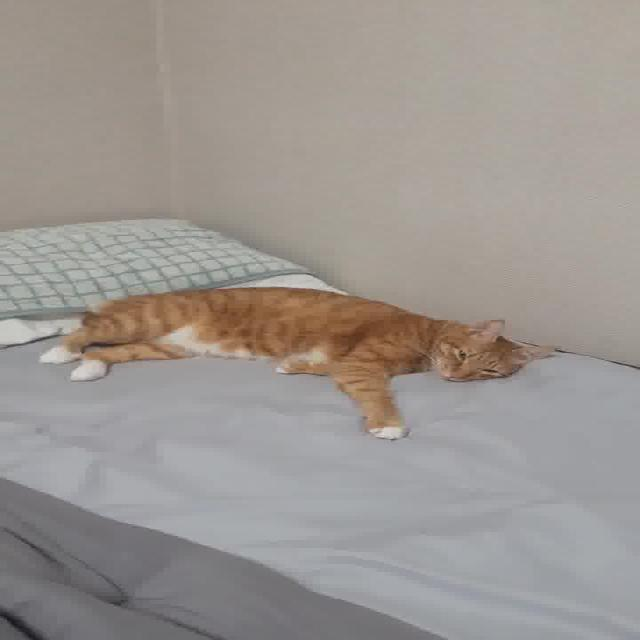cat: (4, 271, 581, 454)
